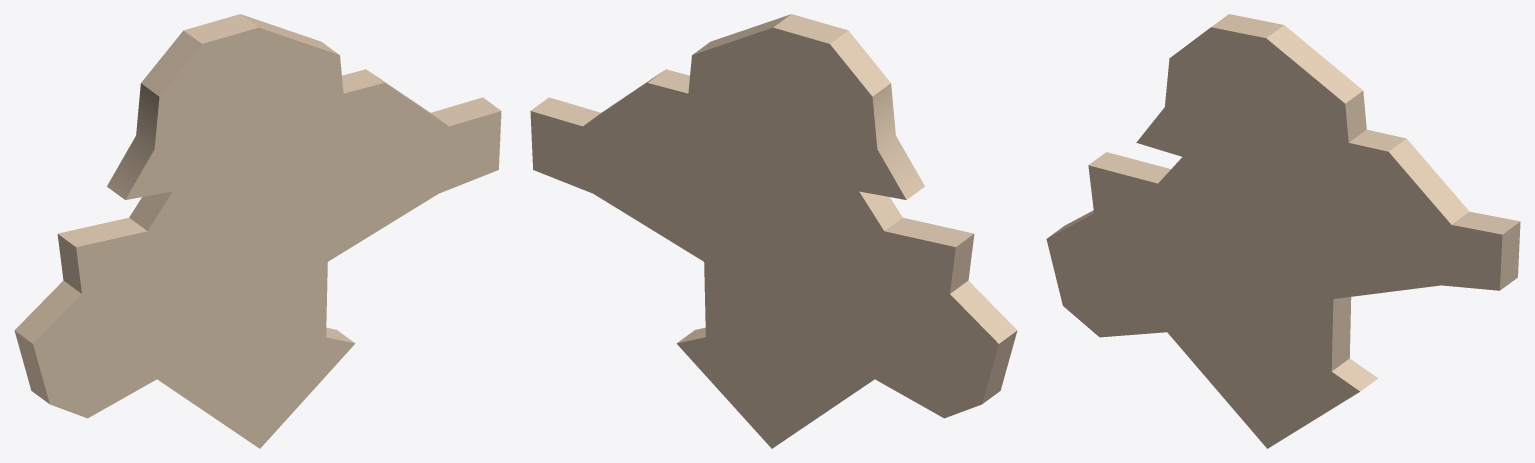
The model's file is nuevo_ideal.fbx.
3 renders of one model, left to right at view 1: azimuth 30°, elevation 25°; view 2: azimuth 150°, elevation 25°; view 3: azimuth 330°, elevation 25°, orthographic. The views are drawn at different scales.
Visible parts, largest first — view 1: nuevo_ideal; view 2: nuevo_ideal; view 3: nuevo_ideal.
Part boxes in pixels (<box>): nuevo_ideal: <box>14,14,501,448</box>; nuevo_ideal: <box>530,14,1017,448</box>; nuevo_ideal: <box>1046,14,1520,448</box>.
Bounding box in the file's own units: 117 × 100 × 8.
